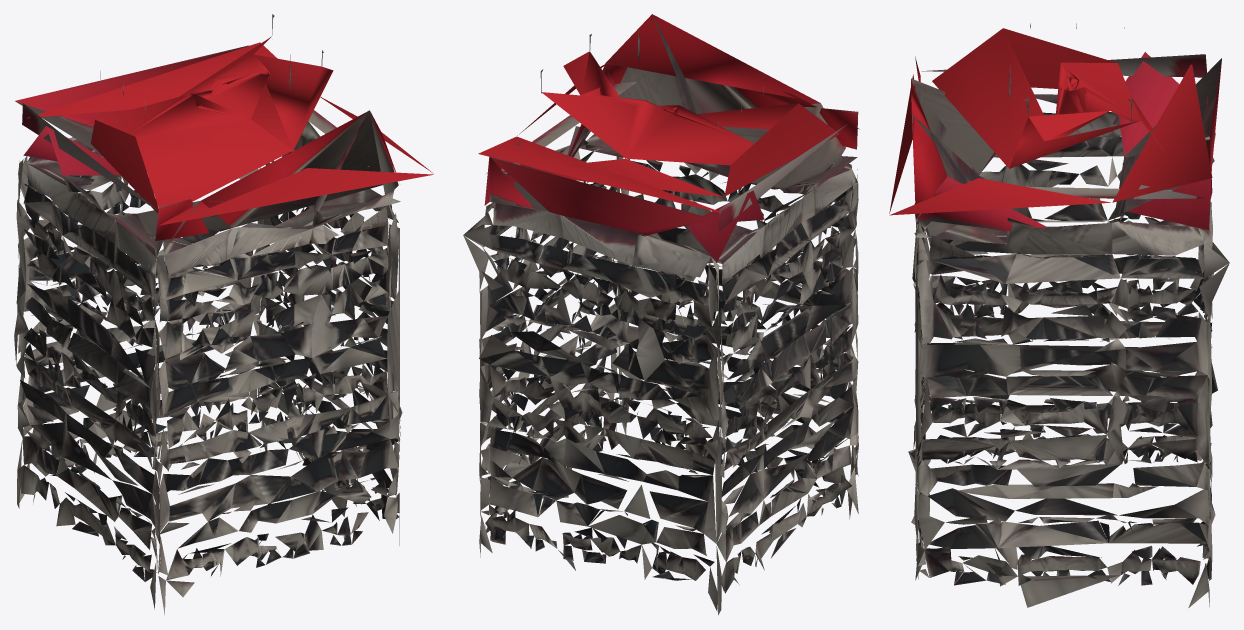
Rendered from JHB_CBDTower_LOD2.fbx.
3 renders of one model, left to right at view 1: azimuth 30°, elevation 25°; view 2: azimuth 150°, elevation 25°; view 3: azimuth 270°, elevation 25°, orthographic. The views are drawn at different scales.
Visible parts, largest first — view 1: JHB_CBDTower_Silhouette_LOD2; view 2: JHB_CBDTower_Silhouette_LOD2; view 3: JHB_CBDTower_Silhouette_LOD2.
Boxes of the visible parts, <box> form: JHB_CBDTower_Silhouette_LOD2: <box>14,14,433,615</box>; JHB_CBDTower_Silhouette_LOD2: <box>463,14,859,615</box>; JHB_CBDTower_Silhouette_LOD2: <box>889,23,1229,607</box>.
Size of the model in its own units: 14.13 by 23.9 by 14.27.
Materials: 2 (1 with a texture image).
